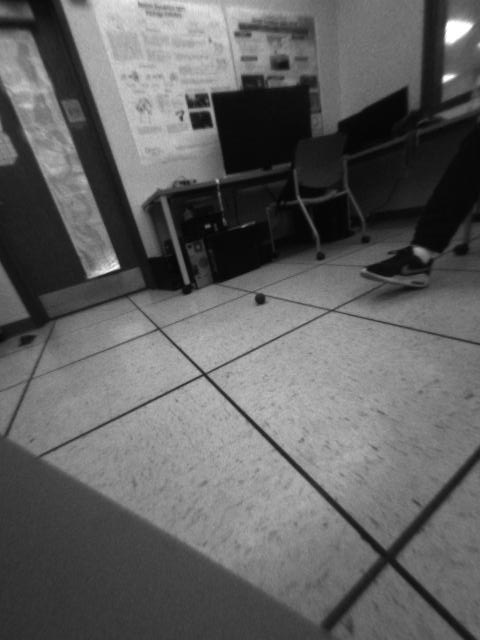dogtoy: (246, 282, 274, 309)
